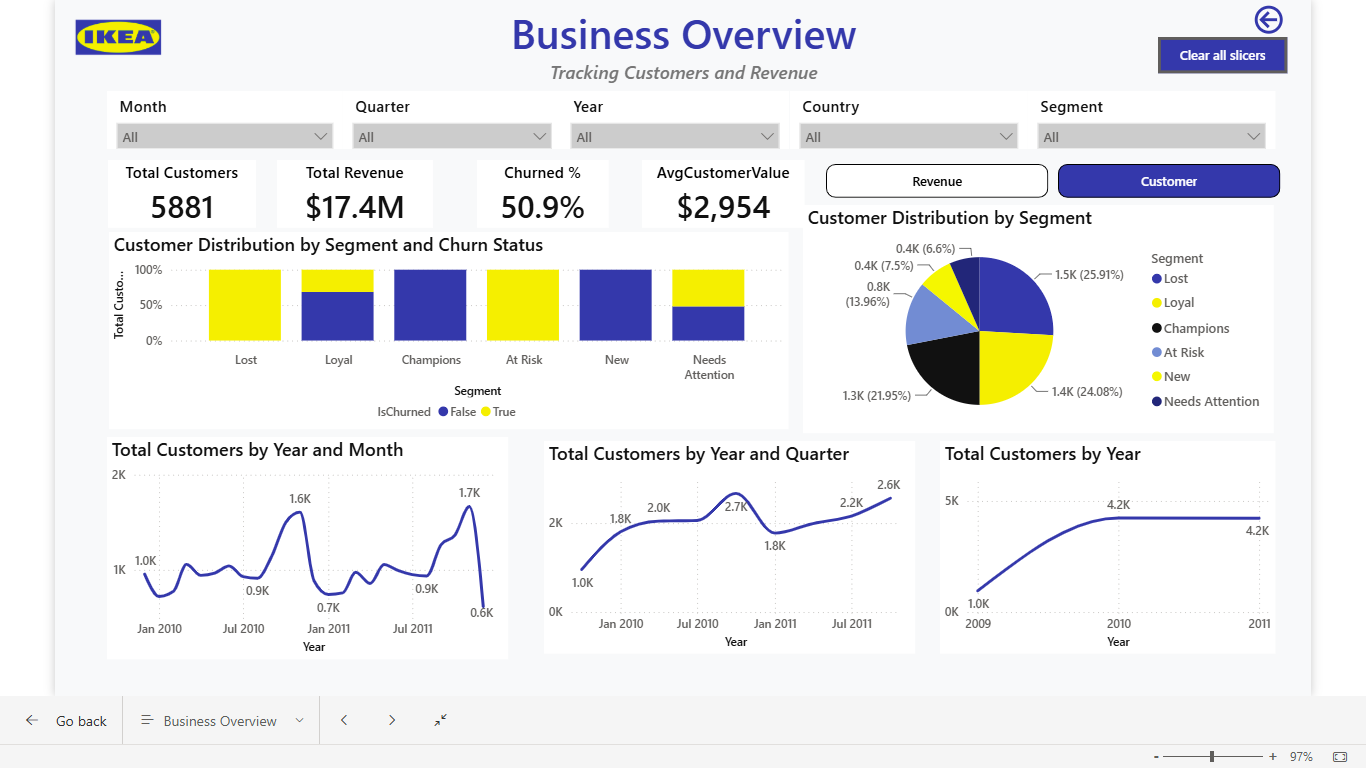

The page's visual inventory and layout, read from the dashboard file:
{"tool":"powerbi","page":{"name":"Business Overview","canvas":[1300,720],"ordinal":1},"visuals":[{"type":"cardVisual","fields":{"Data":["Measures (2).Avg Customer Value"]},"box":[607,166,168,70],"z":0},{"type":"pieChart","title":"Customer Distribution by Segment","fields":{"Category":["Sheet1.Segment"],"Y":["Measures (2).Total Customers"]},"box":[774.1,211.7,487.1,235.7],"z":0,"group":"g1"},{"type":"cardVisual","fields":{"Data":["Measures (2).Churned %"]},"box":[437,166,136,70],"z":1000},{"type":"lineChart","fields":{"Y":["Measures (2).Total Customers"],"Category":["Sheet1.InvoiceDate.Variation.Date Hierarchy.Year","Sheet1.InvoiceDate.Variation.Date Hierarchy.Quarter","Sheet1.InvoiceDate.Variation.Date Hierarchy.Month","Sheet1.InvoiceDate.Variation.Date Hierarchy.Day"]},"box":[915.8,455.7,347.1,220],"z":1000,"group":"g1"},{"type":"cardVisual","fields":{"Data":["Measures (2).Total Revenue"]},"box":[230,166,161,70],"z":2000},{"type":"lineChart","fields":{"Y":["Measures (2).Total Customers"],"Category":["Sheet1.InvoiceMonth.Variation.Date Hierarchy.Year","Sheet1.InvoiceMonth.Variation.Date Hierarchy.Month"]},"box":[53.9,452.1,415.3,229.6],"z":2000,"group":"g1"},{"type":"slicer","fields":{"Values":["Sheet1.InvoiceDate.Variation.Date Hierarchy.Month"]},"box":[53.8,94,243.8,60],"z":3000},{"type":"lineChart","fields":{"Y":["Measures (2).Total Customers"],"Category":["Sheet1.InvoiceDate.Variation.Date Hierarchy.Year","Sheet1.InvoiceDate.Variation.Date Hierarchy.Quarter"]},"box":[505.8,455.7,384.3,220],"z":3000,"group":"g1"},{"type":"slicer","fields":{"Values":["Sheet1.Country"]},"box":[760,94,246.2,60],"z":4000},{"type":"hundredPercentStackedColumnChart","title":"Customer Distribution by Segment and Churn Status","fields":{"Category":["Sheet1.Segment"],"Y":["Measures (2).Total Customers"],"Series":["Sheet1.IsChurned"]},"box":[55.5,239.2,702.9,204.3],"z":4000,"group":"g1"},{"type":"slicer","fields":{"Values":["Sheet1.InvoiceDate.Variation.Date Hierarchy.Year"]},"box":[523.8,94,236.2,60],"z":5000},{"type":"slicer","fields":{"Values":["Sheet1.InvoiceDate.Variation.Date Hierarchy.Quarter"]},"box":[297.5,94,226.2,60],"z":6000},{"type":"slicer","fields":{"Values":["Sheet1.IsChurned"]},"box":[1414,142,266,95],"z":7000},{"type":"slicer","fields":{"Values":["Sheet1.Segment"]},"box":[1006.2,94,256.2,60],"z":8000},{"type":"cardVisual","fields":{"Data":["Measures (2).Total Customers"]},"box":[54.4,165.6,153.3,70],"z":9000},{"type":"group","id":"g1","title":"Customers","box":[53.9,211.7,1209,470],"z":11000},{"type":"textbox","box":[353.3,0,593.3,98.3],"z":12000},{"type":"image","box":[0,0,131.7,76.7],"z":13000},{"type":"actionButton","box":[1236.2,0,38.8,40],"z":14000},{"type":"actionButton","box":[1141.2,38.8,133.8,37.5],"z":15000},{"type":"bookmarkNavigator","box":[797.1,170,470,35.7],"z":16000}]}

Visuals, with their boxes on the page's 1300x720 design canvas (x1, y1, x2, y2). These are canvas units, not pixel positions in the 1366x768 screenshot, which may show the page scaled, cropped or inside an application window:
cardVisual - Measures (2).Avg Customer Value: box(607, 166, 775, 236)
"Customer Distribution by Segment" pieChart: box(774, 212, 1261, 447)
cardVisual - Measures (2).Churned %: box(437, 166, 573, 236)
lineChart - Measures (2).Total Customers x Sheet1.InvoiceDate.Variation.Date Hierarchy.Year: box(916, 456, 1263, 676)
cardVisual - Measures (2).Total Revenue: box(230, 166, 391, 236)
lineChart - Measures (2).Total Customers x Sheet1.InvoiceMonth.Variation.Date Hierarchy.Year: box(54, 452, 469, 682)
slicer - Sheet1.InvoiceDate.Variation.Date Hierarchy.Month: box(54, 94, 298, 154)
lineChart - Measures (2).Total Customers x Sheet1.InvoiceDate.Variation.Date Hierarchy.Year: box(506, 456, 890, 676)
slicer - Sheet1.Country: box(760, 94, 1006, 154)
"Customer Distribution by Segment and Churn Status" hundredPercentStackedColumnChart: box(56, 239, 758, 444)
slicer - Sheet1.InvoiceDate.Variation.Date Hierarchy.Year: box(524, 94, 760, 154)
slicer - Sheet1.InvoiceDate.Variation.Date Hierarchy.Quarter: box(298, 94, 524, 154)
slicer - Sheet1.IsChurned: box(1414, 142, 1680, 237)
slicer - Sheet1.Segment: box(1006, 94, 1262, 154)
cardVisual - Measures (2).Total Customers: box(54, 166, 208, 236)
"Customers" group: box(54, 212, 1263, 682)
textbox: box(353, 0, 947, 98)
image: box(0, 0, 132, 77)
actionButton: box(1236, 0, 1275, 40)
actionButton: box(1141, 39, 1275, 76)
bookmarkNavigator: box(797, 170, 1267, 206)
